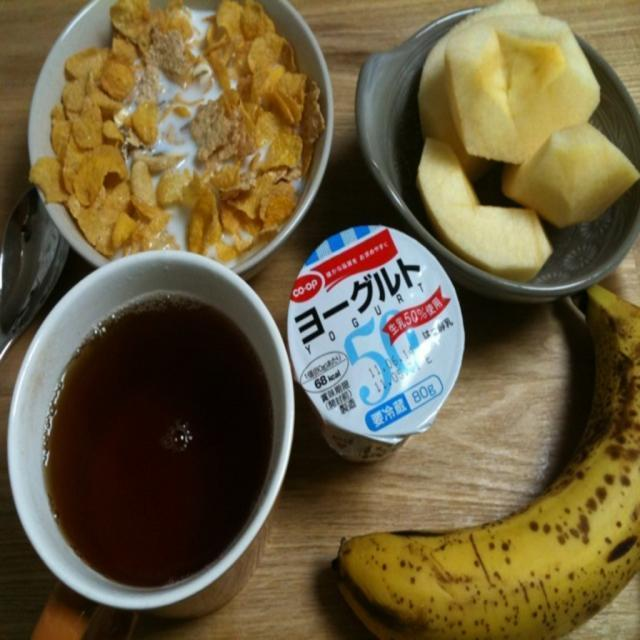Banana: (330, 278, 640, 631)
